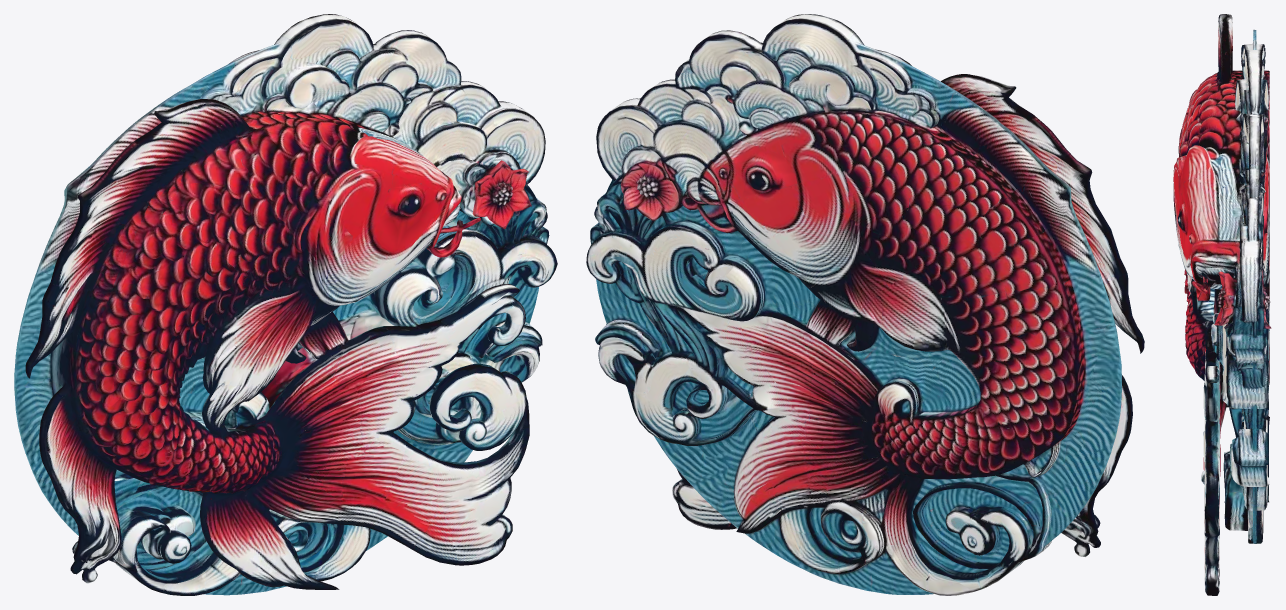
The model's file is water_fish.glb.
3 views of the same model, side by side, from view 1: azimuth 30°, elevation 25°; view 2: azimuth 150°, elevation 25°; view 3: azimuth 270°, elevation 25° (orthographic). The views are drawn at different scales.
Size of the model in its own units: 1.89 by 1.9 by 0.3507.
Materials: 1 (1 with a texture image).
